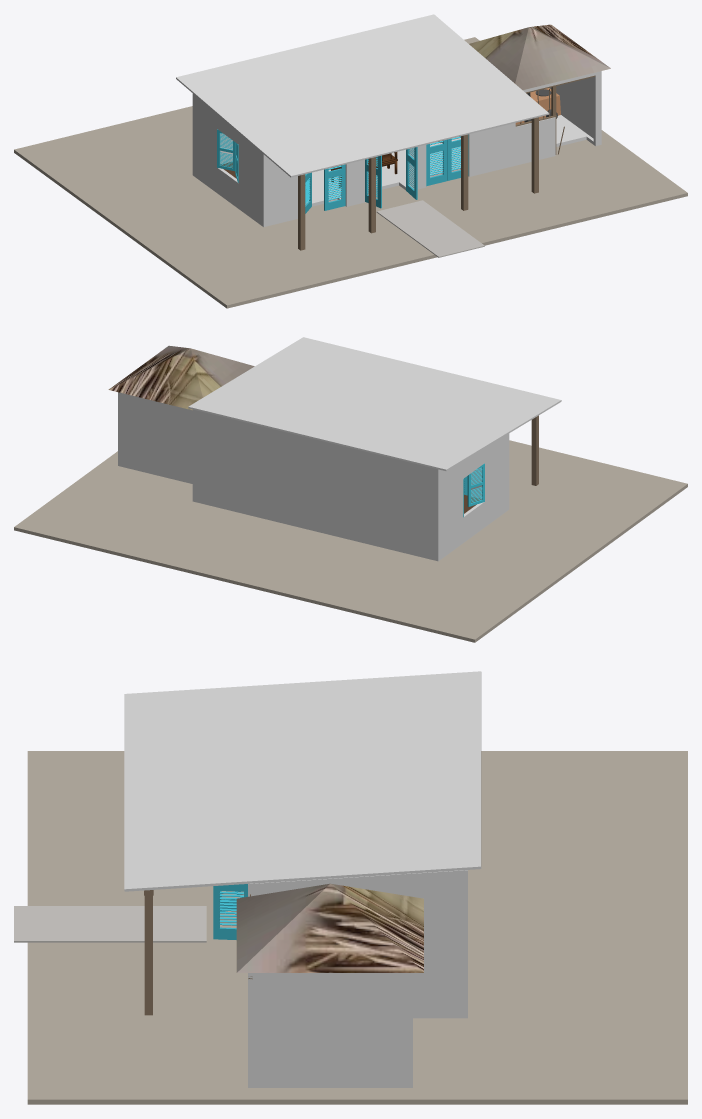
File: MoHinhNhaVietNam.fbx
3 views of the same model, one above another, from view 1: azimuth 30°, elevation 25°; view 2: azimuth 150°, elevation 25°; view 3: azimuth 270°, elevation 25° (orthographic). The views are drawn at different scales.
Visible parts, largest first — view 1: Ground, RoofMain, MainHouse, Annex_Roof, Annex, Path, Door_R_-2.0, Door_L_2.0, LeftWin_L, Door_R_2.0, Column_-3.8, Column_1.5 (+4 smaller); view 2: Ground, MainHouse, RoofMain, Annex, Annex_Roof, LeftWin_R, Column_-3.8; view 3: Ground, RoofMain, Annex, Annex_Roof, MainHouse, Path, Door_R_0.0, Column_3.8.
Boxes of the visible parts, x1,y1,x2,y2 form: Ground: [14, 37, 687, 308]; RoofMain: [176, 14, 549, 177]; MainHouse: [192, 93, 509, 227]; Annex_Roof: [469, 24, 610, 90]; Annex: [509, 71, 601, 166]; Path: [376, 200, 484, 257]; Door_R_-2.0: [324, 164, 345, 210]; Door_L_2.0: [426, 139, 447, 186]; LeftWin_L: [217, 129, 235, 171]; Door_R_2.0: [447, 134, 468, 180]; Column_-3.8: [298, 174, 305, 250]; Column_1.5: [461, 134, 468, 210]; Ground: [14, 440, 687, 642]; MainHouse: [192, 409, 509, 561]; RoofMain: [188, 337, 561, 471]; Annex: [118, 392, 192, 483]; Annex_Roof: [108, 345, 254, 410]; LeftWin_R: [467, 463, 484, 506]; Column_-3.8: [531, 415, 538, 485]; Ground: [27, 751, 687, 1104]; RoofMain: [124, 671, 481, 891]; Annex: [248, 973, 412, 1087]; Annex_Roof: [236, 883, 423, 972]; MainHouse: [248, 870, 467, 1018]; Path: [14, 906, 206, 942]; Door_R_0.0: [213, 884, 247, 939]; Column_3.8: [144, 895, 152, 1015].
Size of the model in its own units: 1500 by 356 by 1225.
42 materials, 3 textured.
